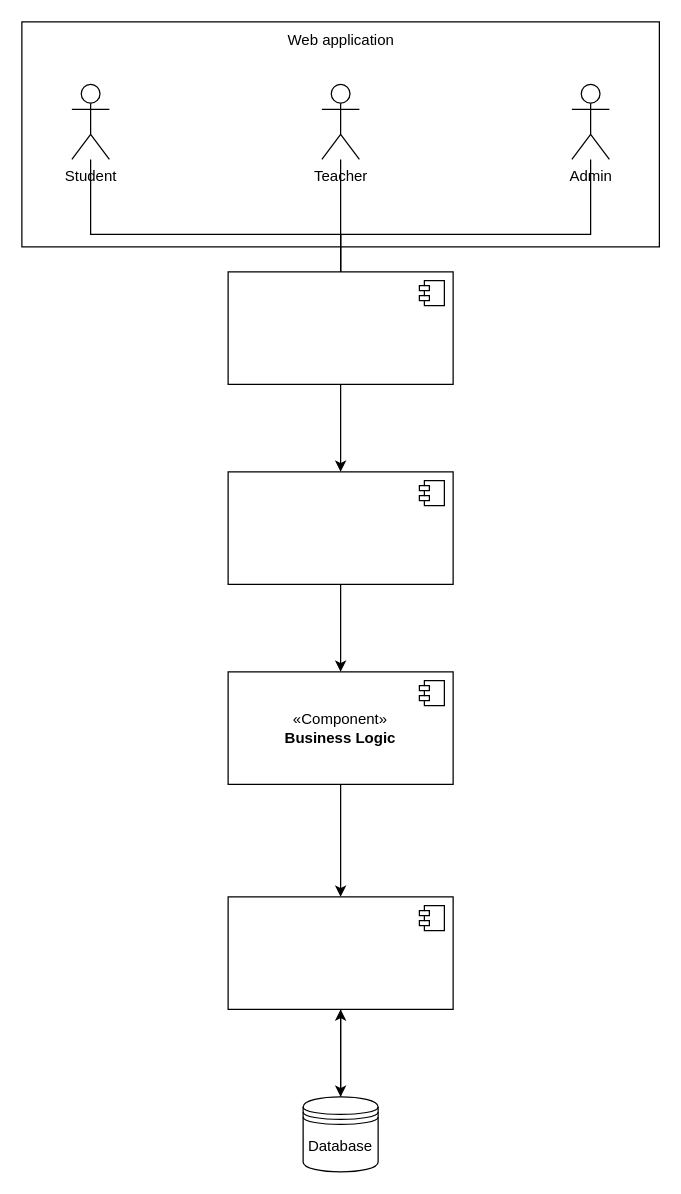
Image size: 681x1194. Some labels were removed from this diagram. Here are the shapes that lost their labels. From the top down, the centre of each, then its label:
point (340, 327): «Component» UI
point (340, 527): «Component» API Controller
point (340, 952): «Component» Data Access Repository
